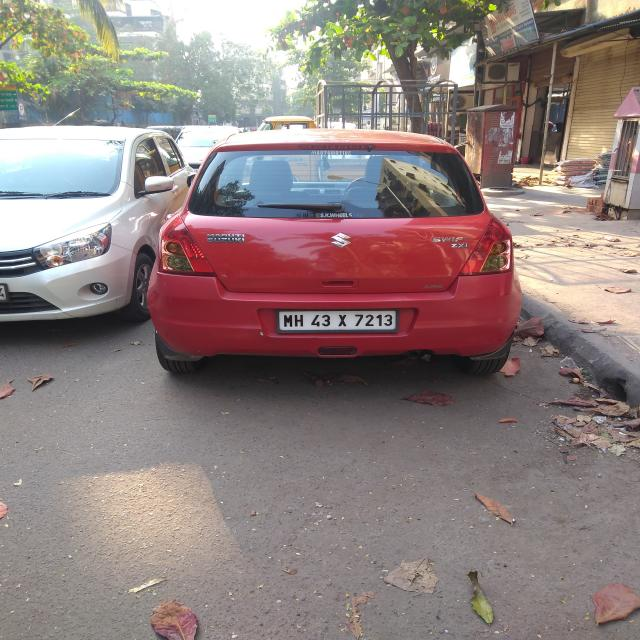Number-Plate: (281, 307, 395, 332)
